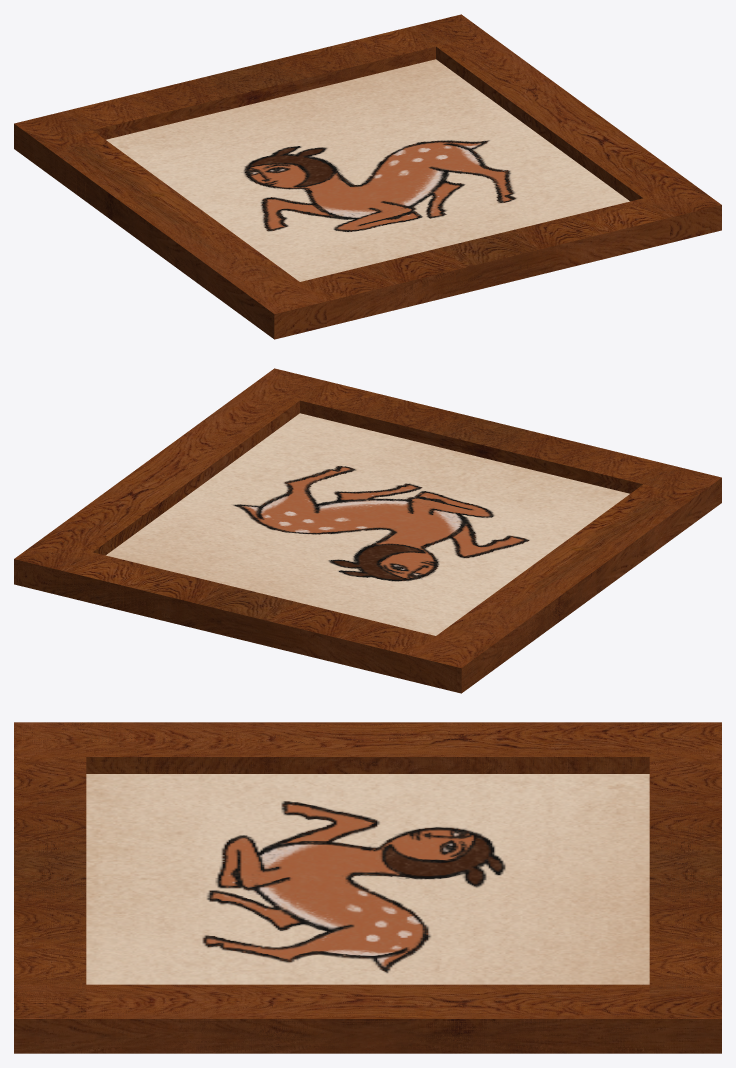
Rendered from julioframe.glb.
3 renders of one model, top to bottom at view 1: azimuth 30°, elevation 25°; view 2: azimuth 150°, elevation 25°; view 3: azimuth 270°, elevation 25°, orthographic. The views are drawn at different scales.
Parts seen in each view (by area): view 1: Cube, Plane; view 2: Cube, Plane; view 3: Plane, Cube.
Boxes of the visible parts, box(x1,y1,x2,y2) form: Cube: box(14, 14, 721, 339); Plane: box(106, 59, 629, 281); Cube: box(14, 368, 721, 693); Plane: box(106, 413, 629, 635); Plane: box(86, 774, 649, 984); Cube: box(14, 722, 721, 1053).
Size of the model in its own units: 0.6057 by 0.0328 by 0.6107.
Materials: 2 (2 with a texture image).
